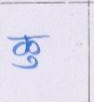u_matra: (11, 57, 40, 70)
